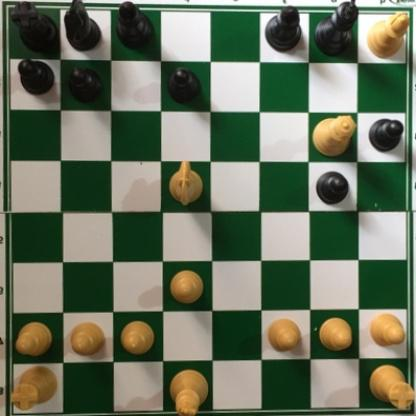black-bishop: (264, 4, 304, 54), (114, 1, 154, 49)
black-king: (313, 1, 360, 57)
black-knight: (61, 1, 102, 53)
black-pawn: (17, 57, 56, 95), (68, 65, 104, 106), (168, 66, 202, 106), (368, 118, 406, 153), (314, 170, 350, 206)
black-rook: (11, 1, 62, 54)
white-bishop: (365, 11, 409, 59)
white-king: (169, 369, 211, 416)
white-knight: (169, 158, 204, 208)
white-pawn: (15, 320, 57, 358), (68, 319, 108, 358), (119, 319, 157, 358), (316, 316, 355, 353), (369, 309, 406, 347), (169, 267, 204, 307), (264, 316, 302, 352)
white-queen: (311, 111, 359, 154)
white-rook: (10, 361, 62, 412), (367, 361, 415, 412)
